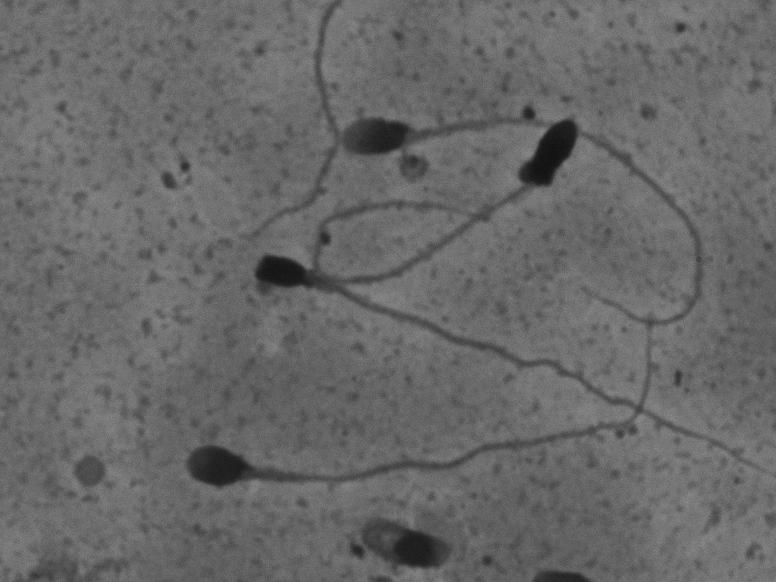Abnormal: (243, 242, 767, 492), (339, 103, 726, 340), (299, 109, 592, 292)
Normal: (173, 303, 666, 497)
